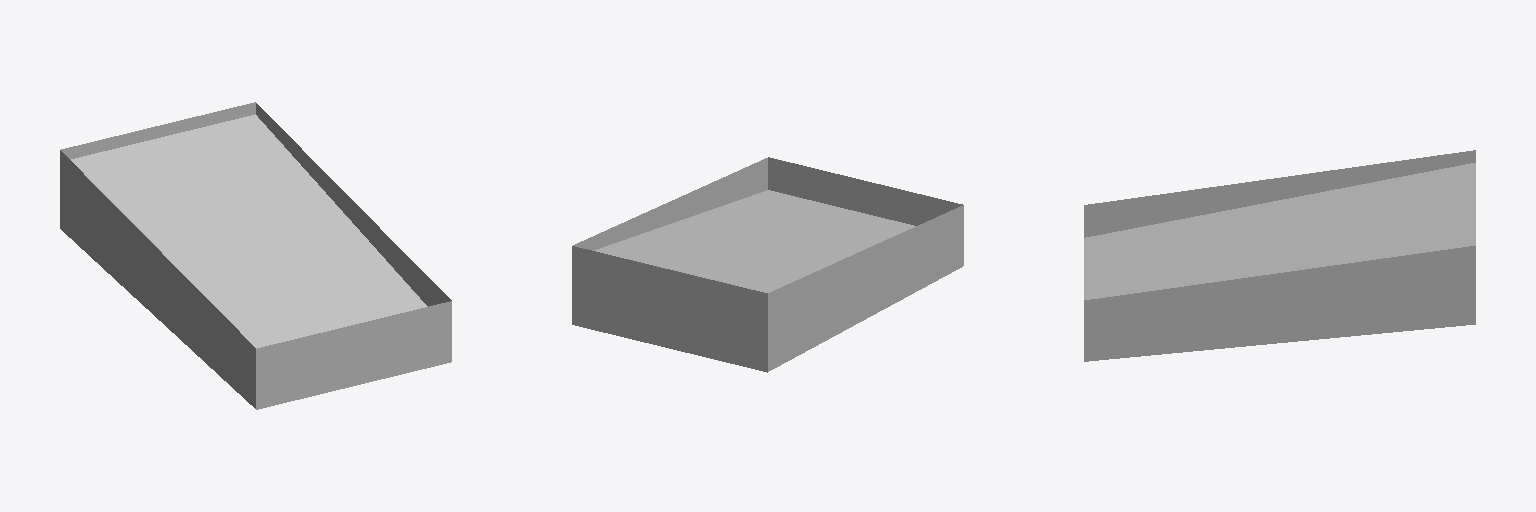
File: Future-Box03.obj
The picture shows the model from 3 angles: view 1: azimuth 30°, elevation 25°; view 2: azimuth 150°, elevation 25°; view 3: azimuth 270°, elevation 25°; orthographic projection.
Visible parts, largest first — view 1: polySurface1 polySurface2, polySurface1; view 2: polySurface1, polySurface1 polySurface2; view 3: polySurface1, polySurface1 polySurface2.
Part boxes in pixels (bbox=[...]): polySurface1 polySurface2: bbox=[71, 114, 427, 348]; polySurface1: bbox=[60, 102, 451, 409]; polySurface1: bbox=[572, 157, 963, 372]; polySurface1 polySurface2: bbox=[594, 190, 915, 292]; polySurface1: bbox=[1084, 150, 1475, 361]; polySurface1 polySurface2: bbox=[1084, 163, 1475, 299].
Bounding box in the file's own units: 40.21 × 22.89 × 69.95.